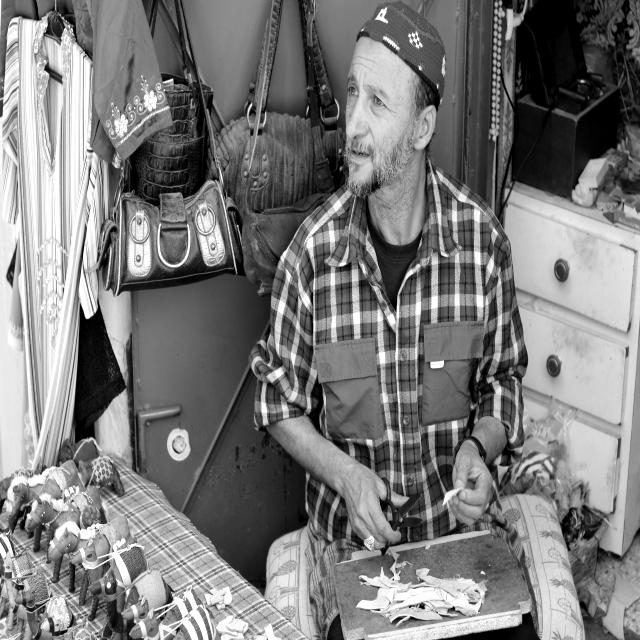No-Vest: (287, 191, 509, 544)
